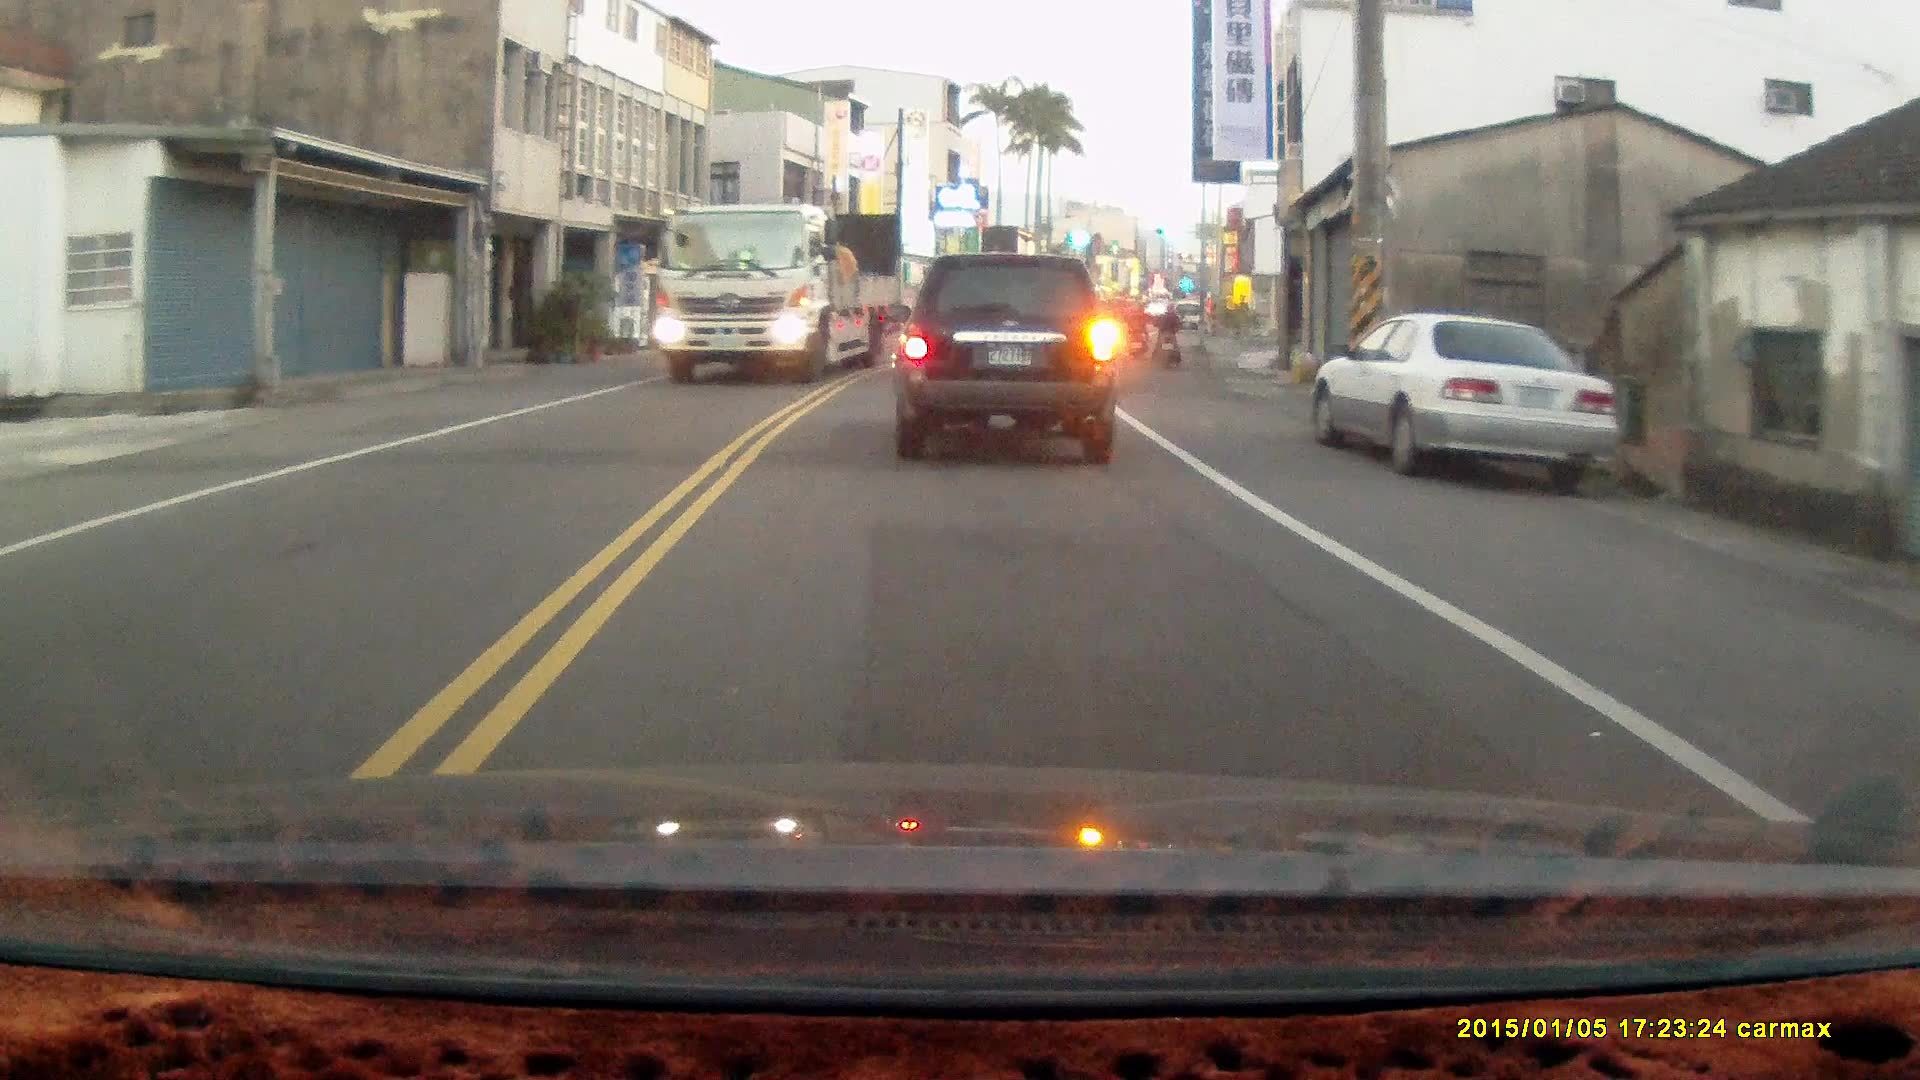rider: (1152, 296, 1183, 373), (1123, 297, 1148, 360)
vehicle: (1315, 313, 1619, 485), (892, 246, 1121, 459), (652, 201, 906, 384)
